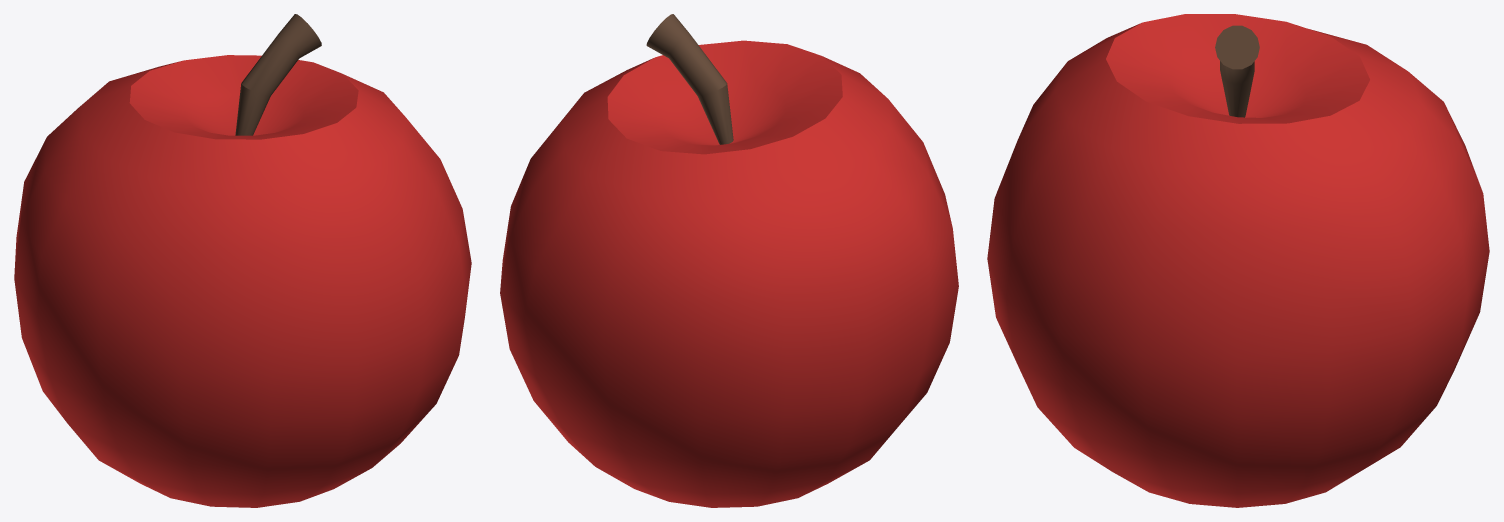
File: apple.fbx
3 views of the same model, side by side, from view 1: azimuth 30°, elevation 25°; view 2: azimuth 150°, elevation 25°; view 3: azimuth 270°, elevation 25° (orthographic). The views are drawn at different scales.
Parts seen in each view (by area): view 1: Sphere; view 2: Sphere; view 3: Sphere.
Boxes of the visible parts, x1=… form: Sphere: x1=14, y1=14, x2=471, y2=507; Sphere: x1=500, y1=14, x2=958, y2=507; Sphere: x1=987, y1=14, x2=1489, y2=507.
Bounding box in the file's own units: 39.57 × 43.27 × 40.18.
